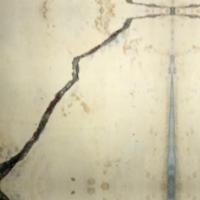crack: (1, 9, 148, 159)
